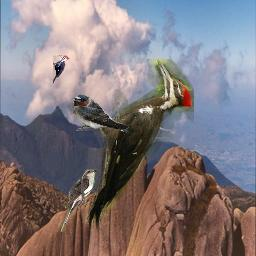Cuckoo: (61, 169, 98, 232)
Swallow: (70, 94, 129, 133)
Woodpecker: (78, 59, 194, 231), (53, 55, 70, 84)
